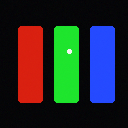0 point: (67, 49, 71, 53)
